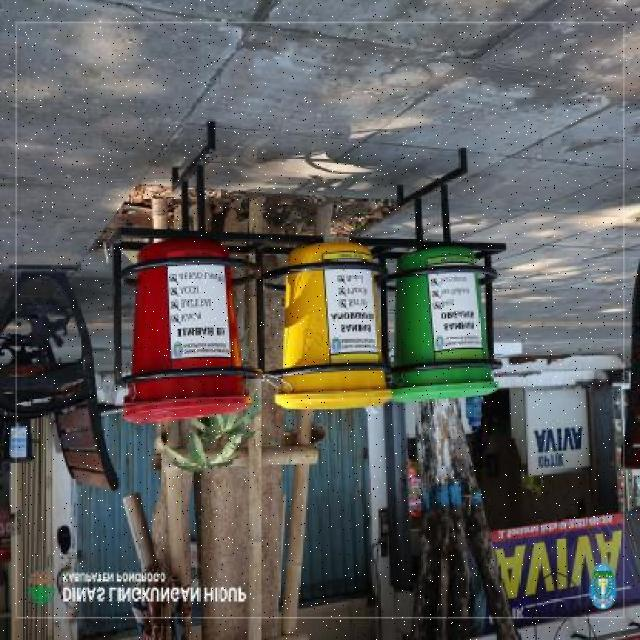garbage container: (115, 230, 260, 433), (272, 236, 391, 422), (391, 237, 505, 414)
